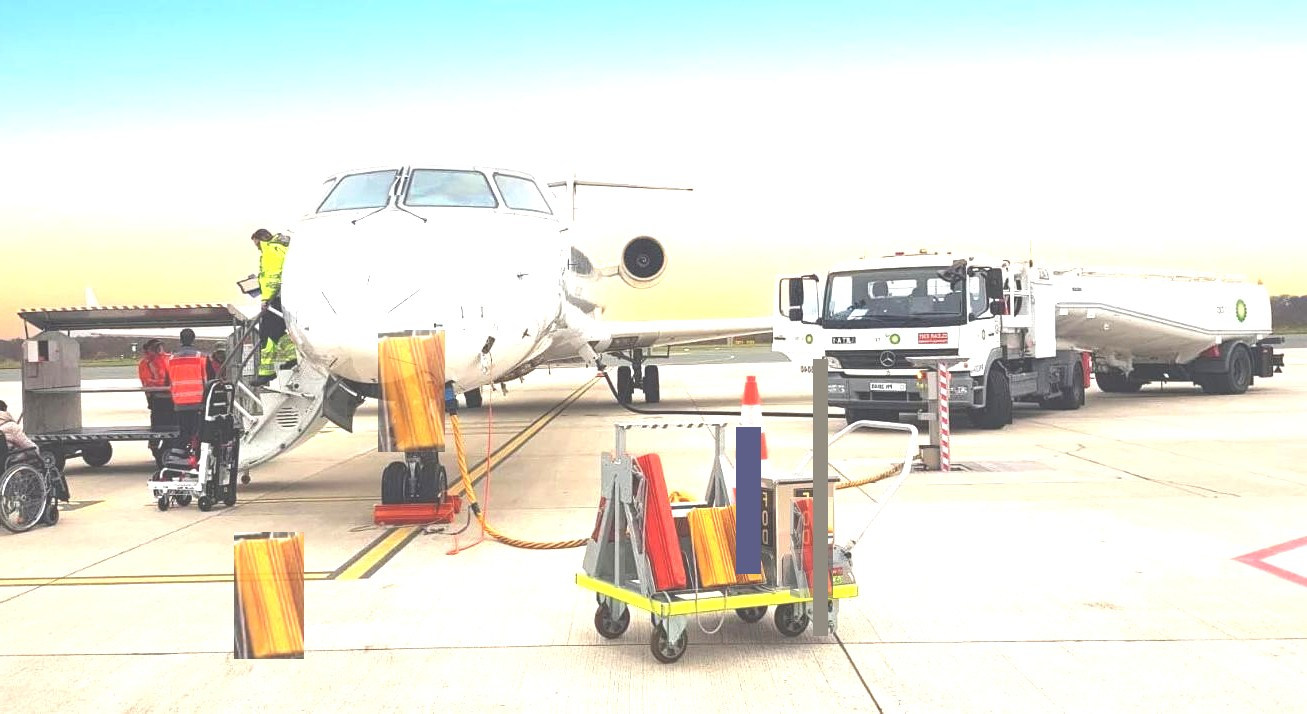chock: (234, 532, 304, 659), (627, 451, 688, 593), (378, 330, 445, 452), (790, 497, 833, 598), (720, 501, 767, 586), (689, 504, 736, 588)
wheel: (961, 366, 1011, 429), (1203, 344, 1253, 396), (1052, 355, 1086, 408), (1093, 360, 1148, 392), (379, 460, 413, 506), (417, 458, 447, 505), (844, 405, 898, 430), (81, 440, 114, 467)
